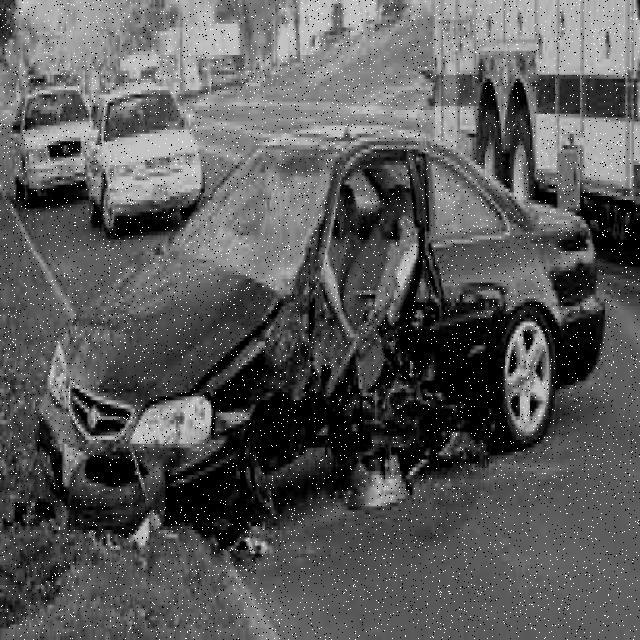car damage: (193, 146, 499, 524)
